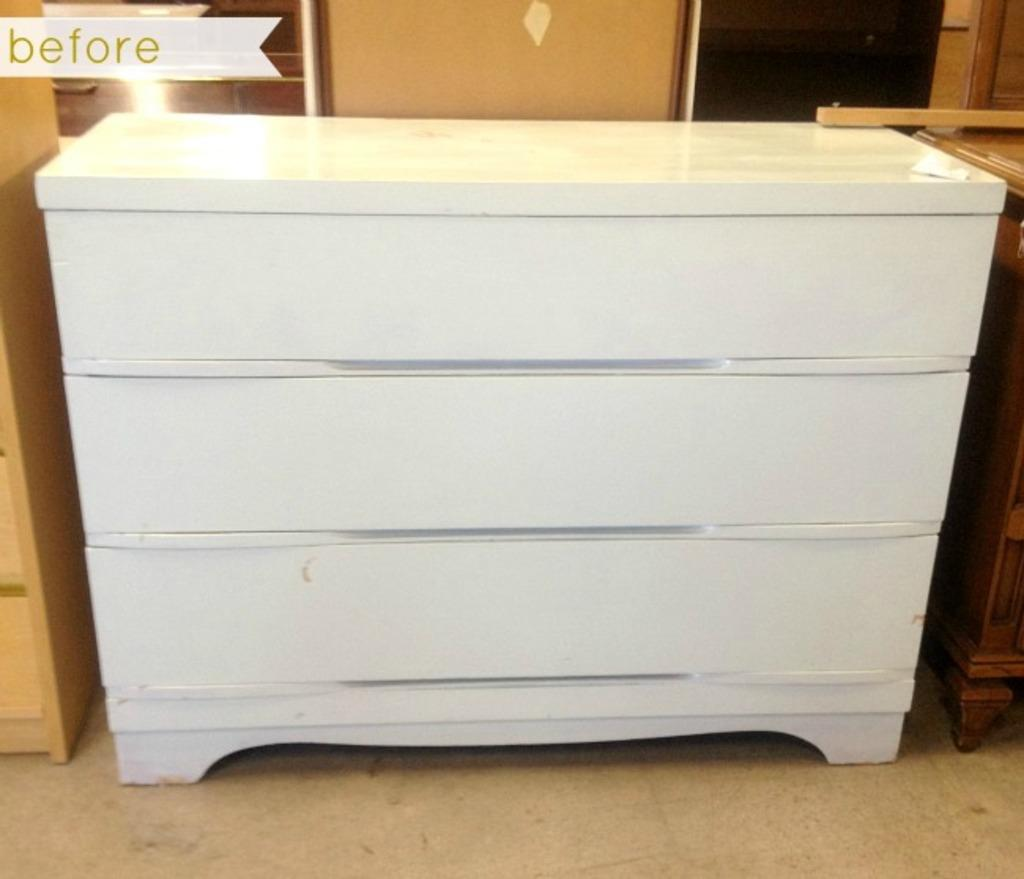cabinet_door: (44, 212, 978, 354), (70, 375, 950, 522), (94, 543, 920, 674)
handle: (322, 346, 730, 390), (335, 514, 715, 552), (340, 669, 690, 696)
